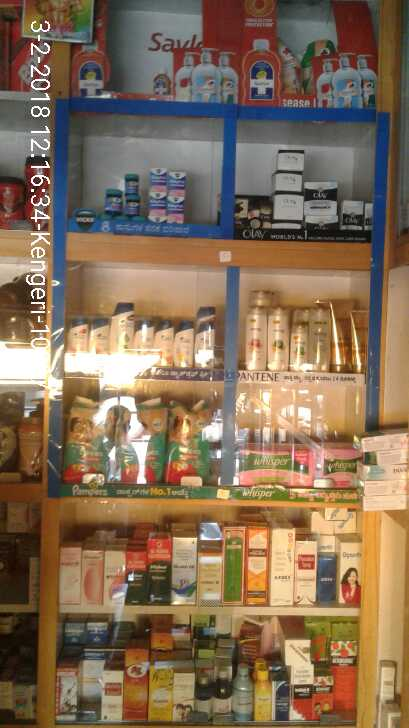beauty: (108, 297, 135, 366), (298, 175, 339, 219), (265, 295, 287, 376), (308, 303, 330, 374), (269, 137, 311, 174), (330, 289, 349, 370), (244, 302, 266, 370), (195, 312, 218, 375), (152, 316, 174, 373), (64, 317, 89, 366), (172, 321, 196, 372), (353, 310, 371, 374), (271, 170, 308, 195), (134, 316, 152, 366), (269, 191, 297, 221), (87, 317, 106, 361), (291, 323, 306, 371)
pharmacy: (116, 393, 163, 490), (59, 397, 104, 487), (163, 400, 210, 481), (236, 440, 311, 486), (310, 438, 364, 488), (94, 187, 122, 217), (165, 166, 191, 189), (144, 165, 165, 191), (146, 191, 169, 212), (164, 193, 186, 214), (123, 169, 138, 197), (120, 194, 138, 216)
